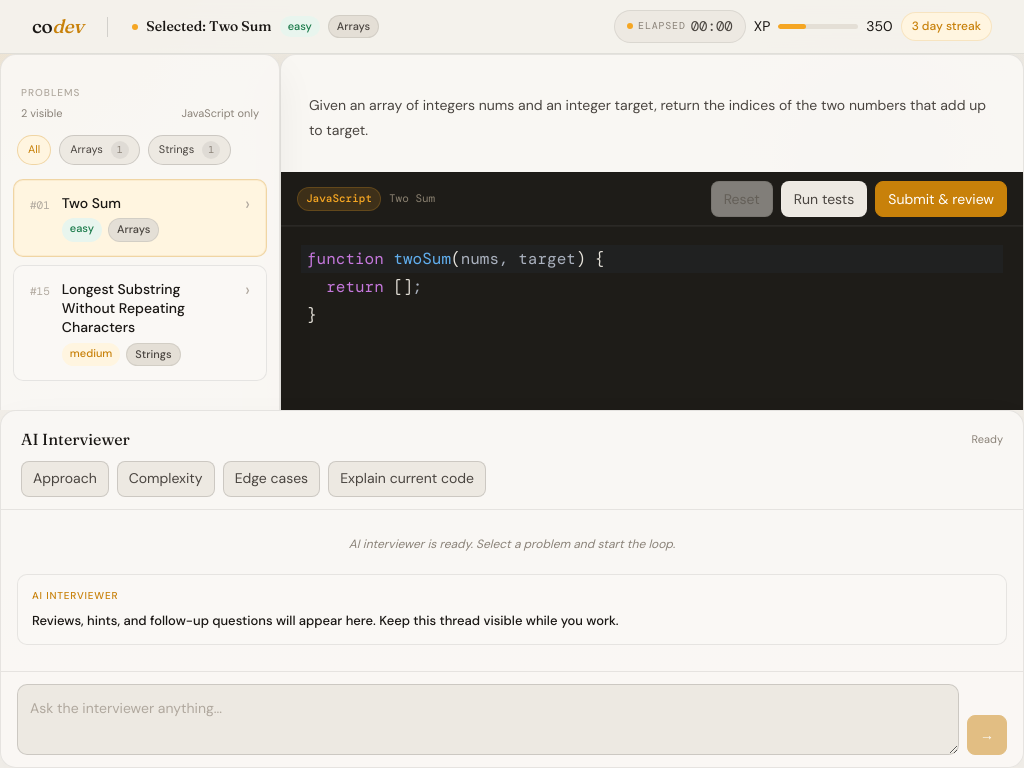
Test: App problem list flow › shows review errors when the submit request fails
Check: the heading "Selected: Two Sum" is shown, box [146, 19, 272, 34]
Click the button "Submit & review" at coordinates (941, 199), box [875, 181, 1007, 217]
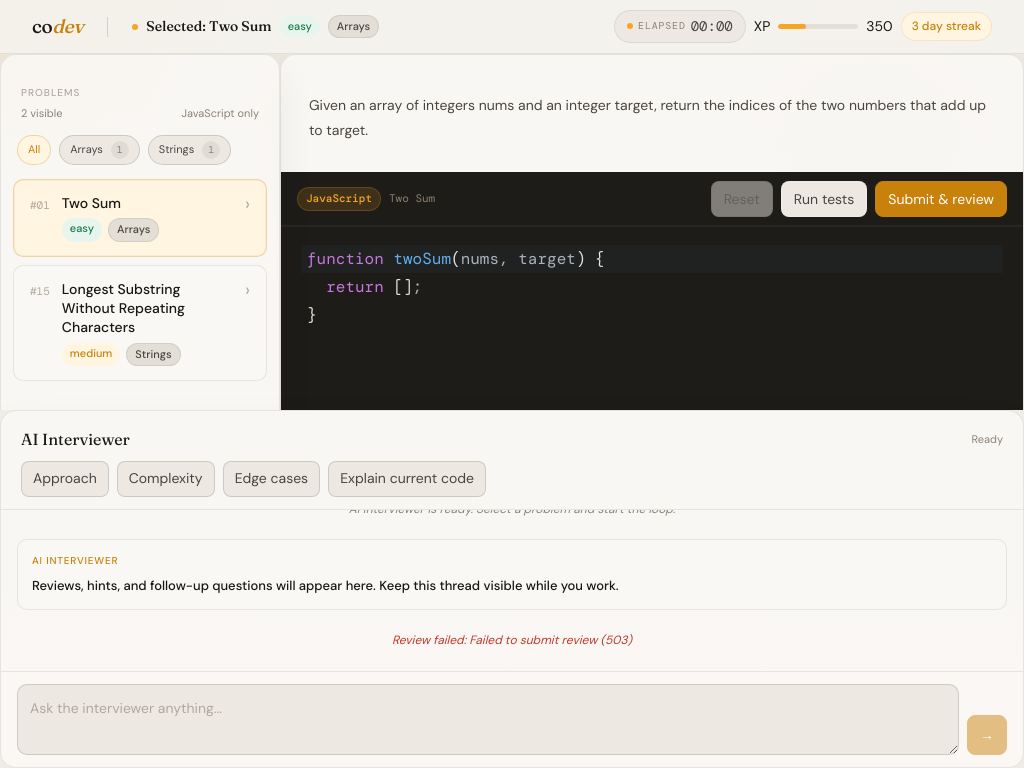
Check: the text "Review failed: Failed to submit review (503)" is shown, box [392, 632, 632, 648]
